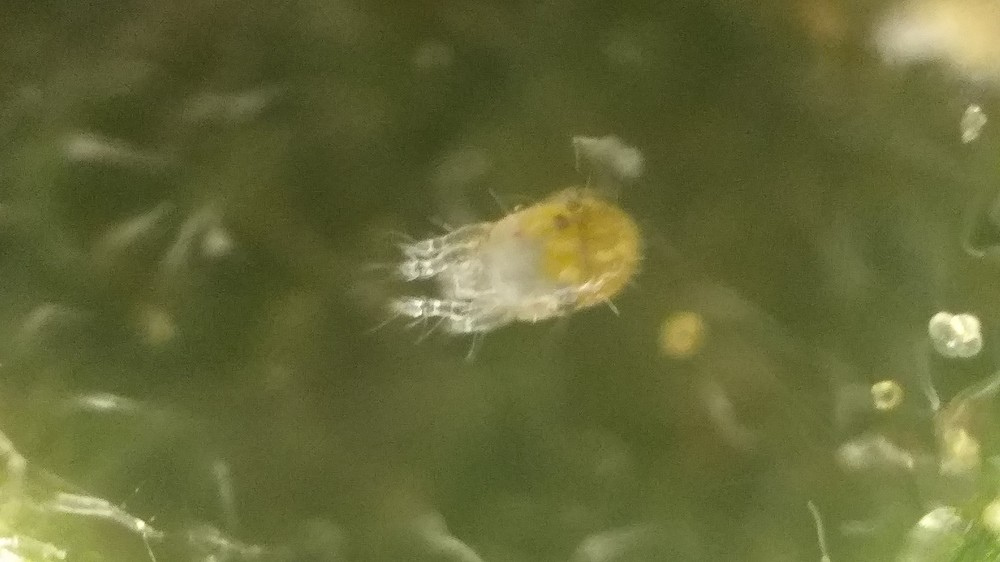Aracnido Rojo: (382, 167, 670, 371)
